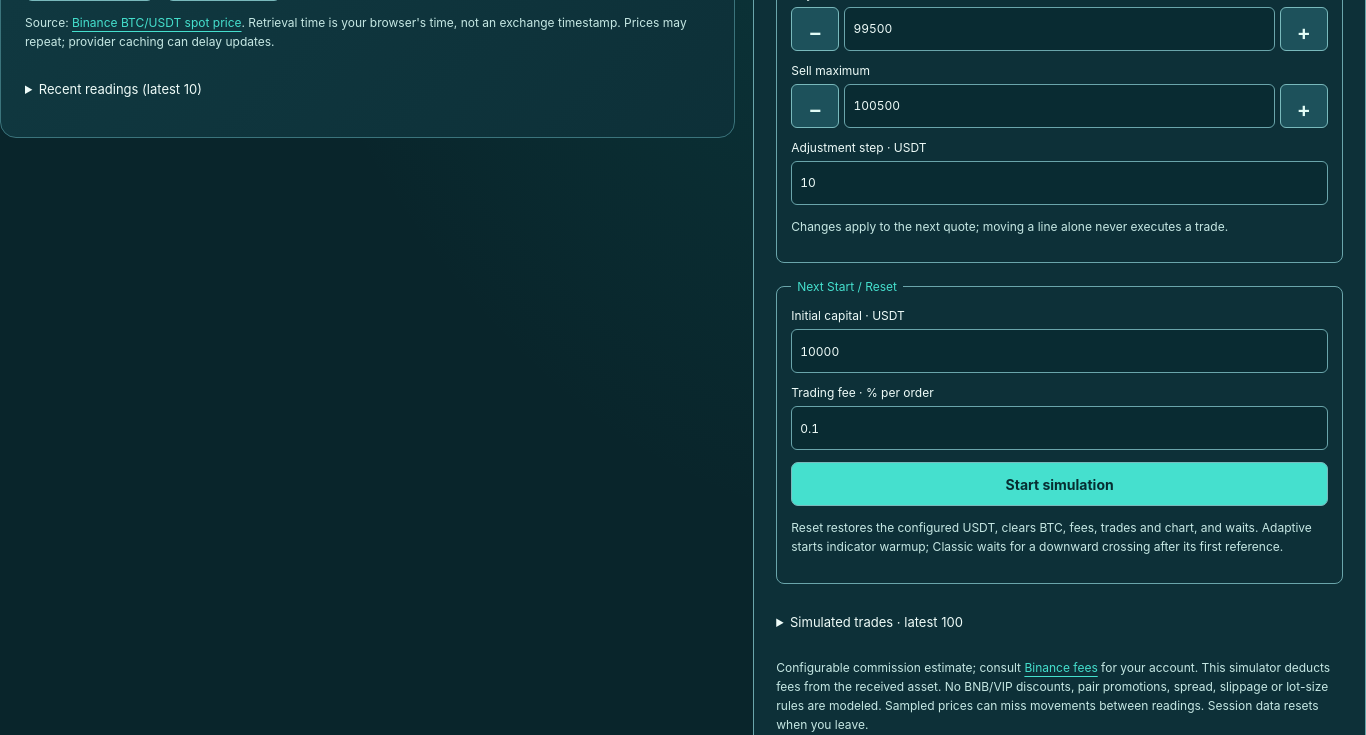
it: retains capital without trading on failed Reset quotes and rejects invalid settings
(page scrolled)
Replace the text in the number field labelled "Initial capital · USDT" with "-1": (1060, 351) [791,329,1328,373]
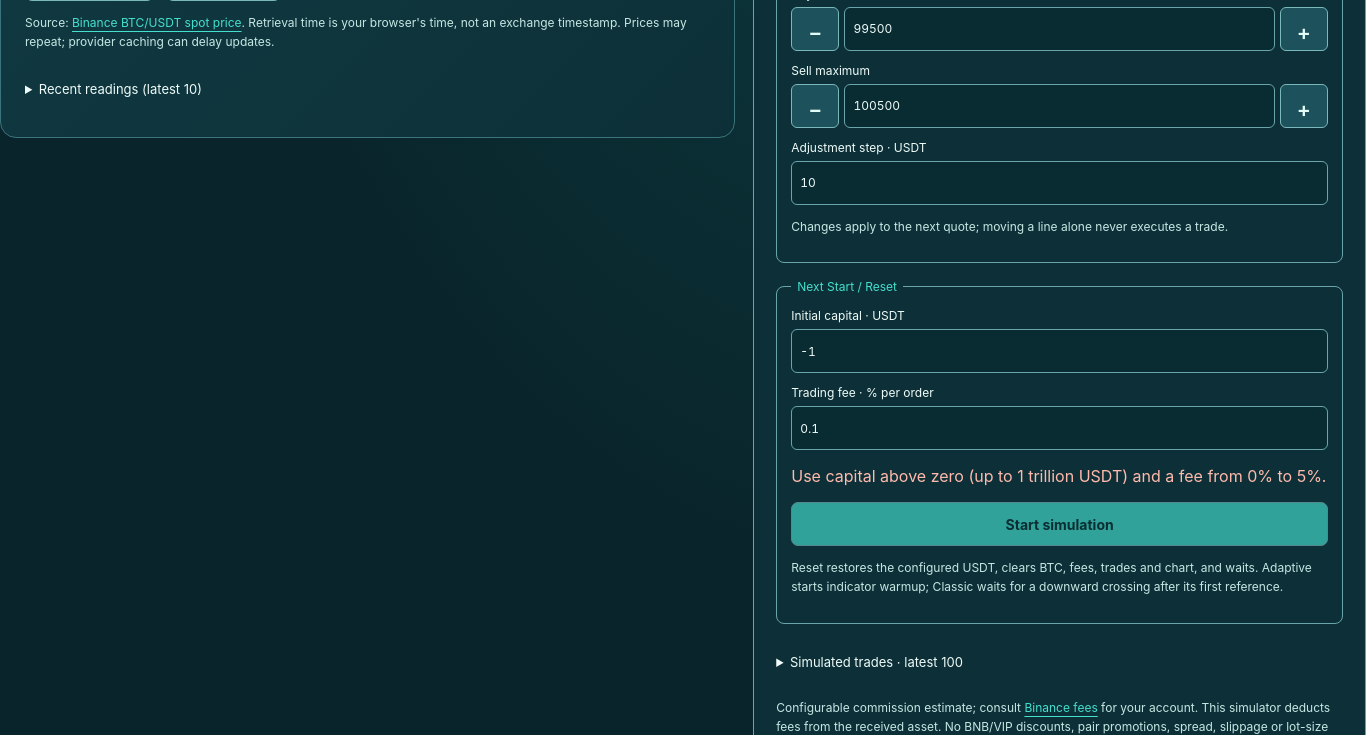
Expected: the button "Start simulation" is disabled, [791,502,1328,546]
Replace the text in the number field labelled "Initial capital · USDT" with "10000": (1060, 351) [791,329,1328,373]
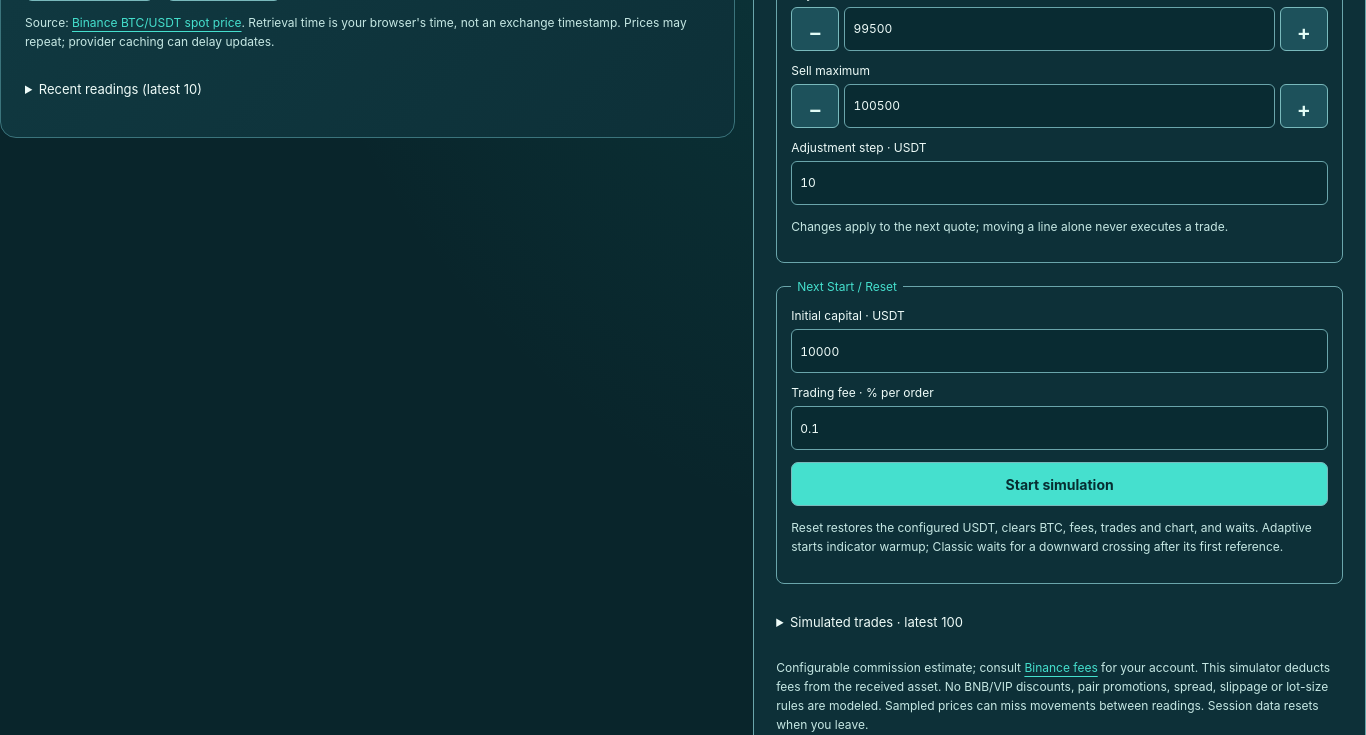
Replace the text in the number field labelled "Buy minimum" with "101000": (1060, 29) [844,7,1275,51]
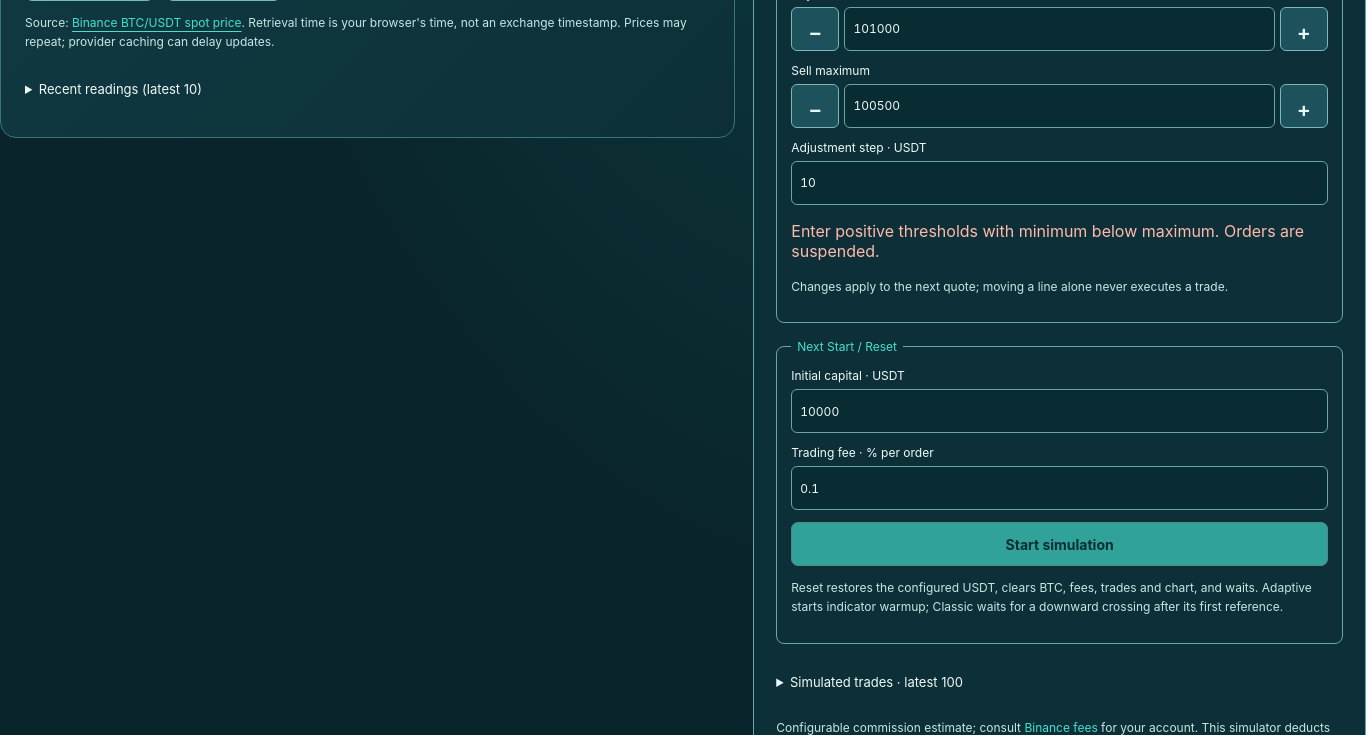
Expected: the button "Start simulation" is disabled, [791,522,1328,566]
Replace the text in the number field labelled "Buy minimum" with "99000": (1060, 29) [844,7,1275,51]
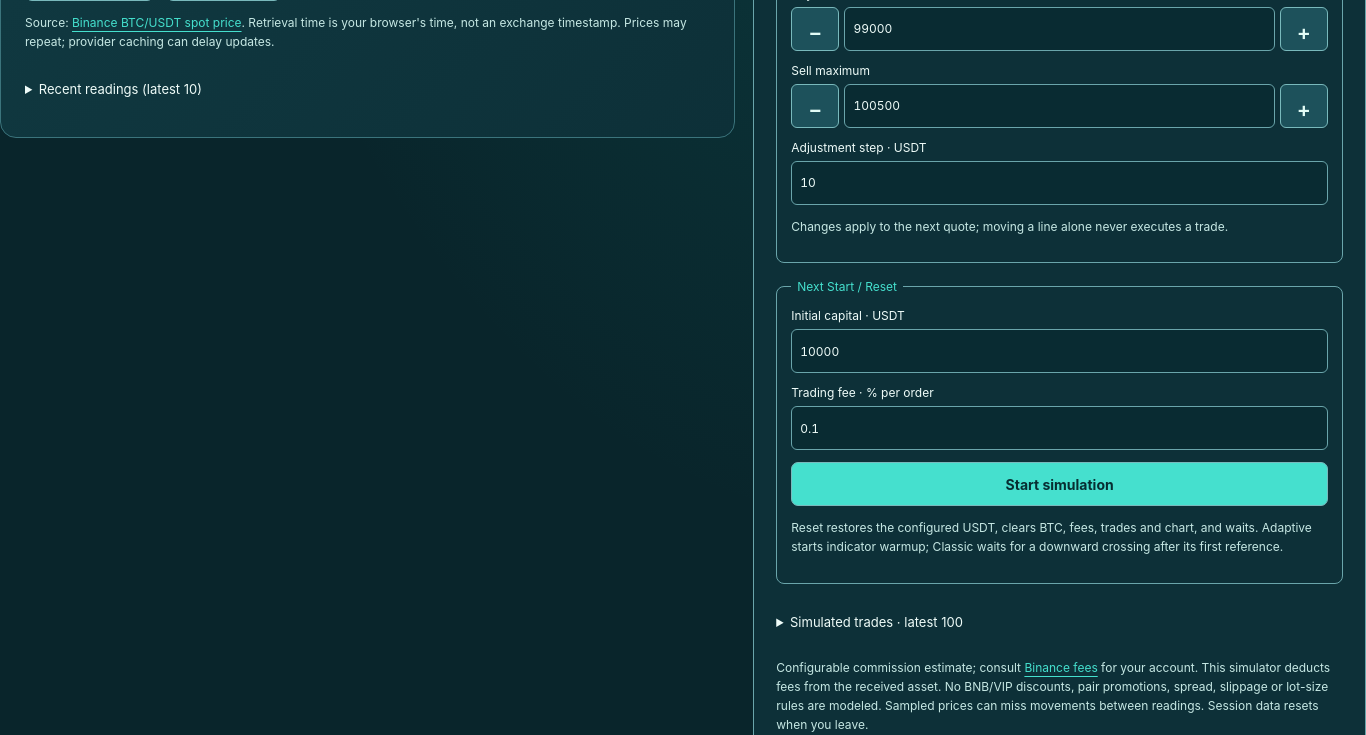
Click the button "Start simulation": (1060, 484) [791,462,1328,506]
(page scrolled)
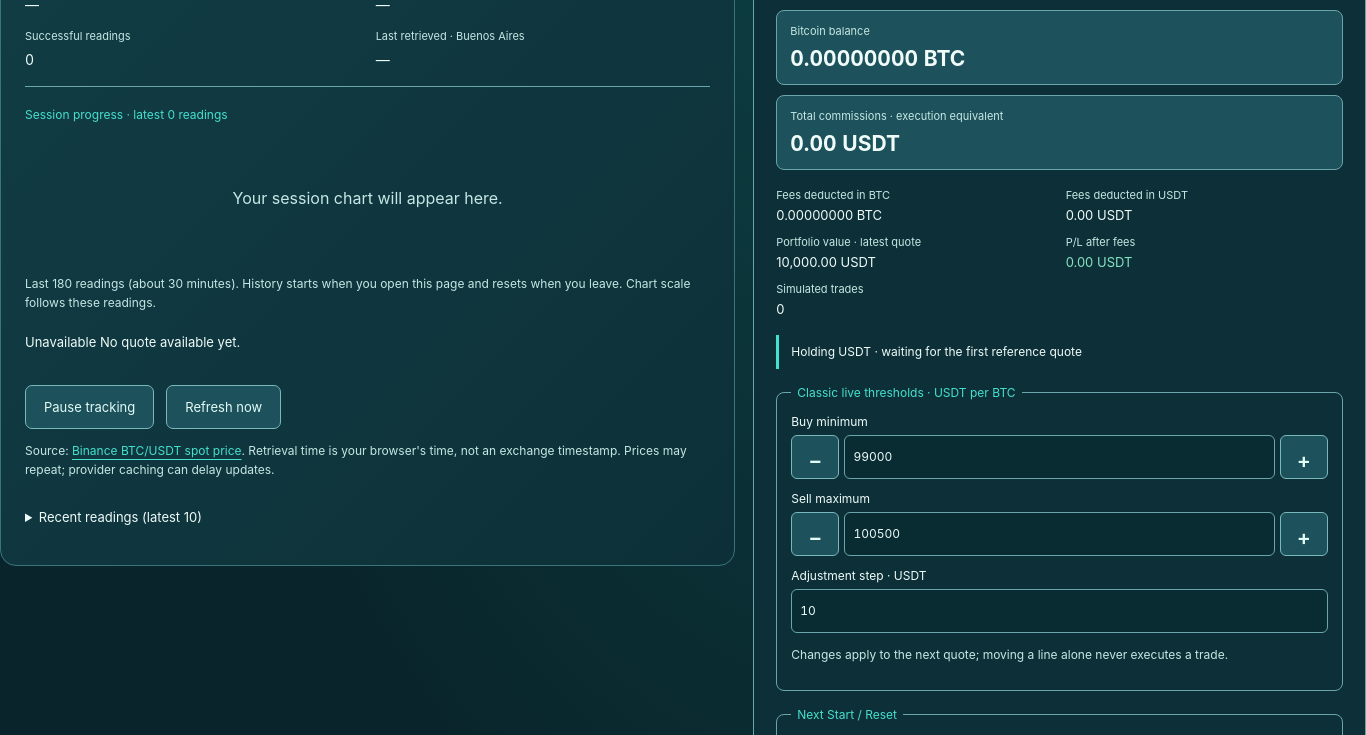
Expected: the text with test id "trade-count" reads "0", [776,301,784,317]
Expected: the message shows "Unavailable", [25,334,240,350]
